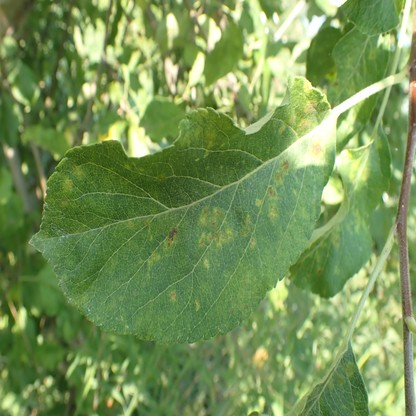scab: (61, 104, 325, 343), (291, 206, 363, 282), (326, 48, 374, 102), (330, 362, 356, 390), (350, 158, 369, 183), (310, 386, 320, 398), (373, 136, 381, 150)
